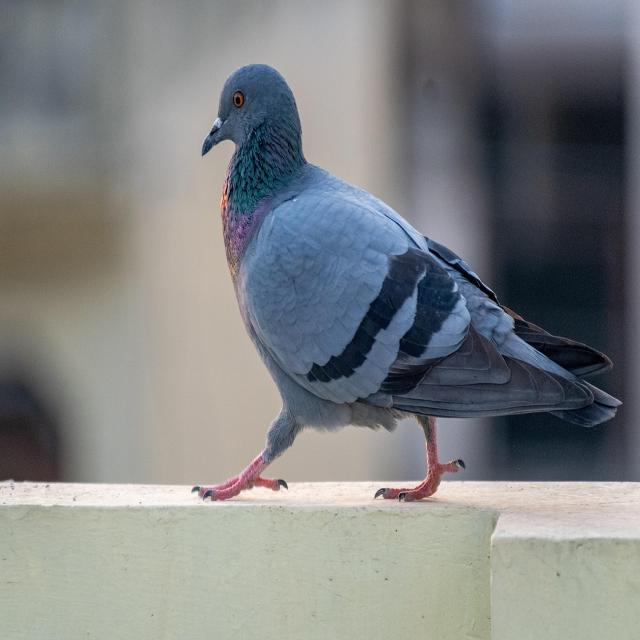pegion: (136, 10, 626, 562)
